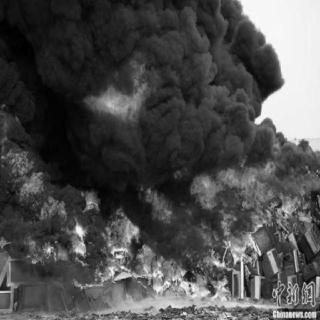Smoke: (1, 0, 285, 157)
